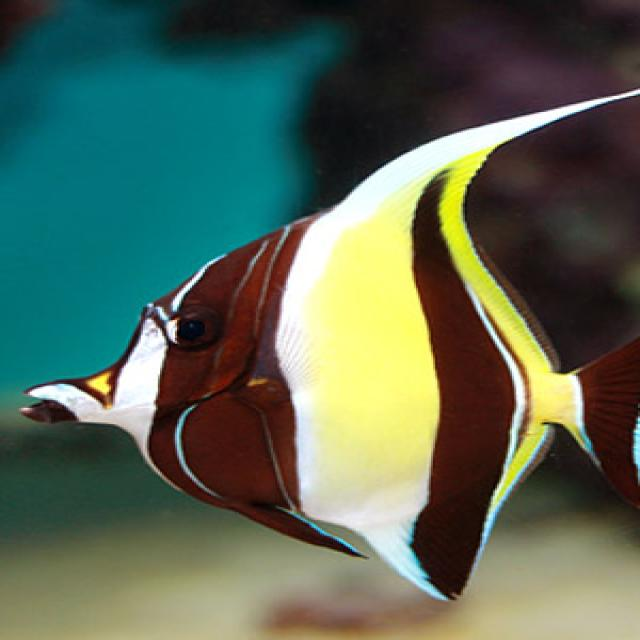MorishIdol: (15, 62, 638, 605)
